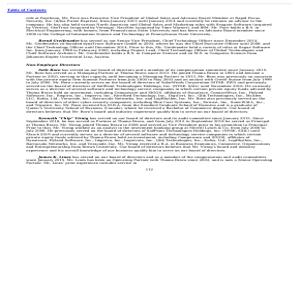text: (7, 8, 275, 165)
